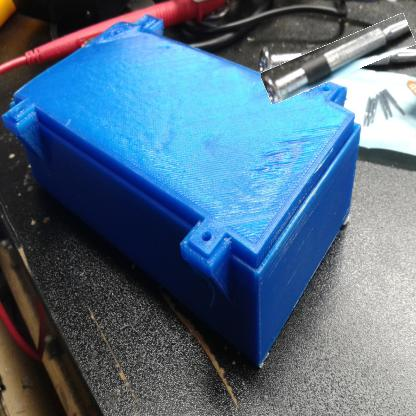Pen: (260, 27, 415, 91)
